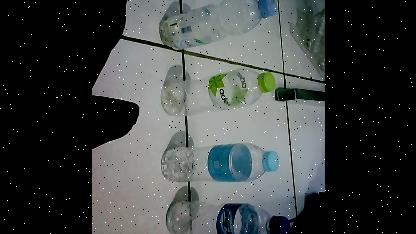Plastic Bottle: (154, 0, 280, 51), (160, 67, 278, 119), (160, 143, 278, 185), (164, 203, 290, 234)
